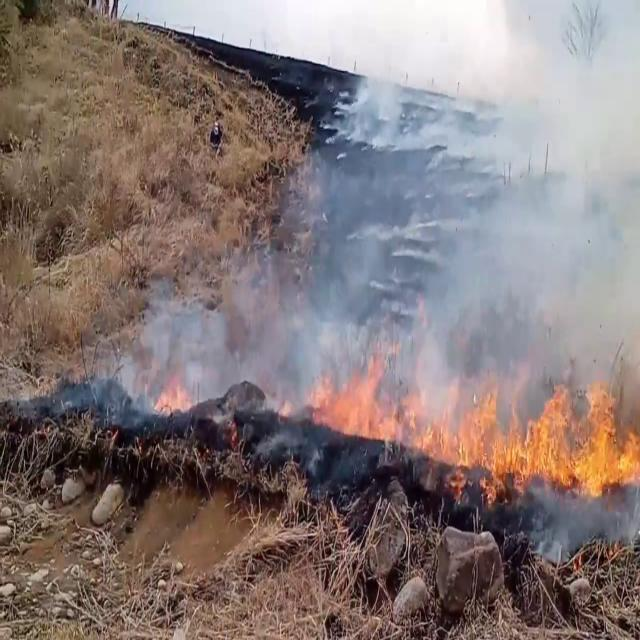Fire: (336, 341, 504, 504), (512, 370, 640, 498)
Smoke: (344, 11, 639, 342), (121, 178, 345, 432)
